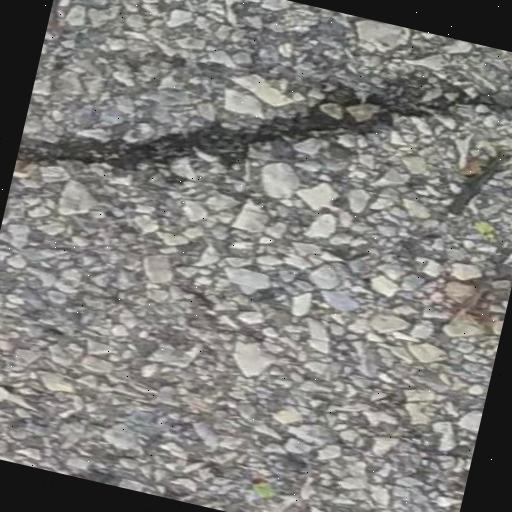spalling: (14, 67, 512, 179)
